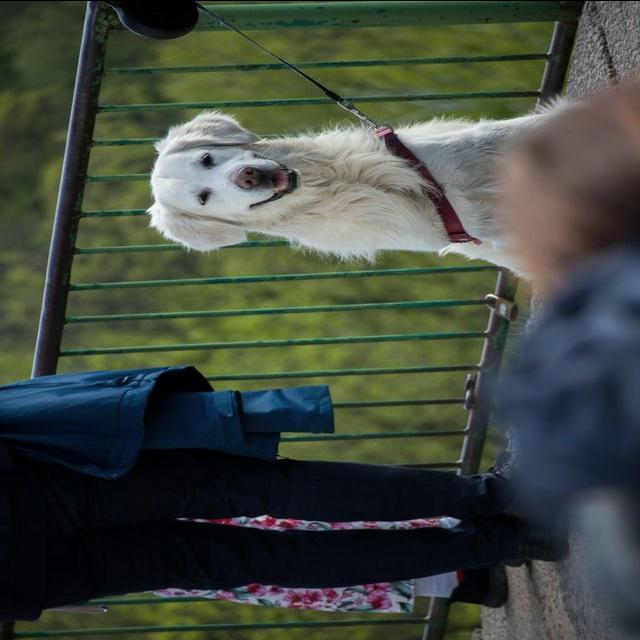retriever: (145, 94, 567, 283)
